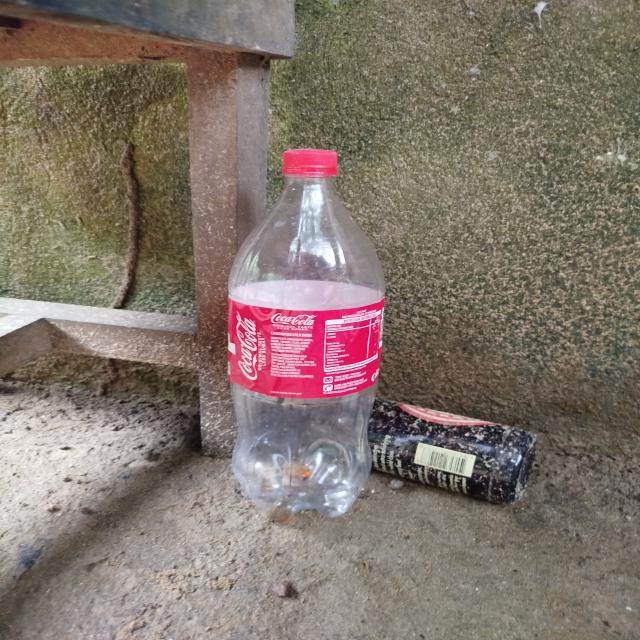glass: (356, 380, 552, 512)
plastic: (205, 139, 410, 530)
